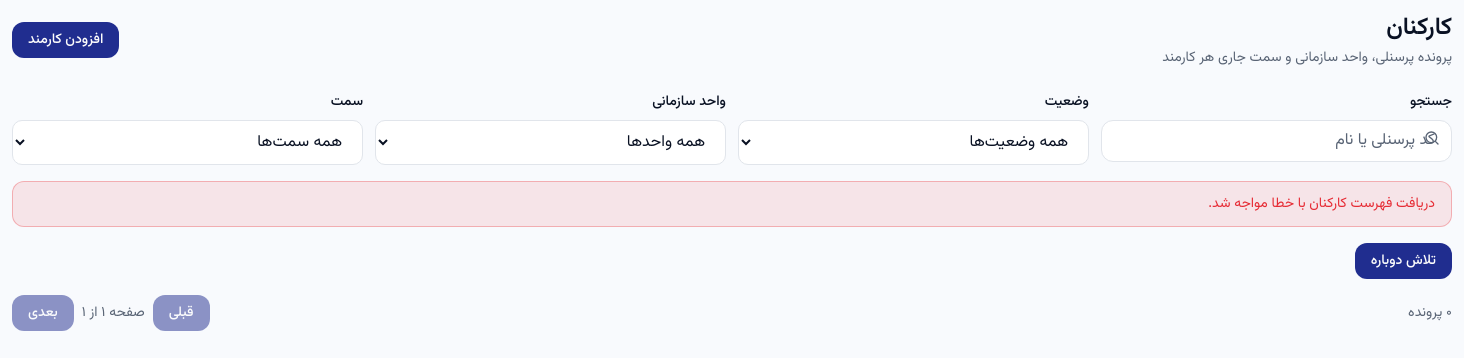
HrEmployeesView › renders a retryable failure and re-reads the same query
The width and height of the screenshot is (1464, 358).
Expected: the text "دریافت فهرست کارکنان با خطا مواجه شد." is shown, top-left (12, 181), bottom-right (1452, 227)
What coordinates should you click on to do the following:
click the button "تلاش دوباره"
I would click on:
 (1403, 261)
Its box is top-left (1355, 243), bottom-right (1452, 279).
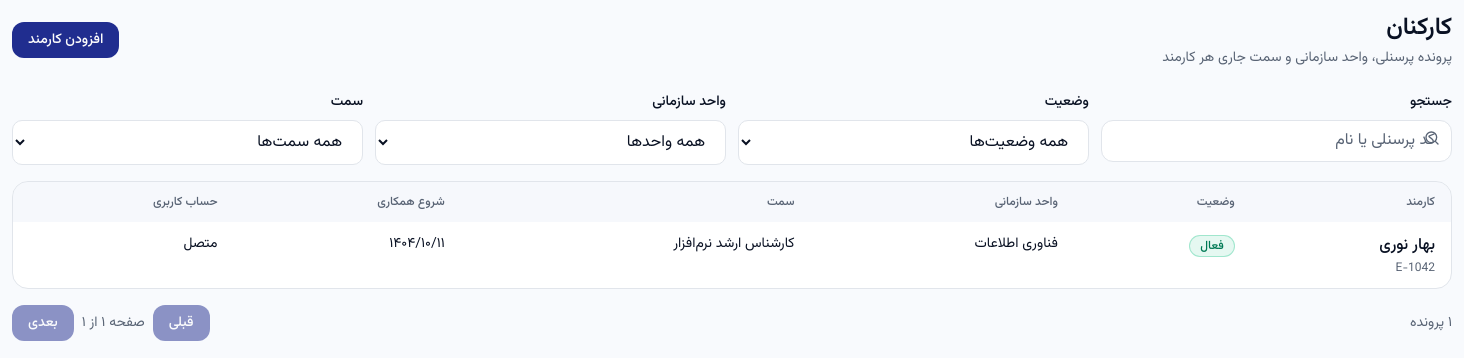
Expected: the table with test id "hr-employee-table" is shown, top-left (13, 182), bottom-right (1451, 288)
